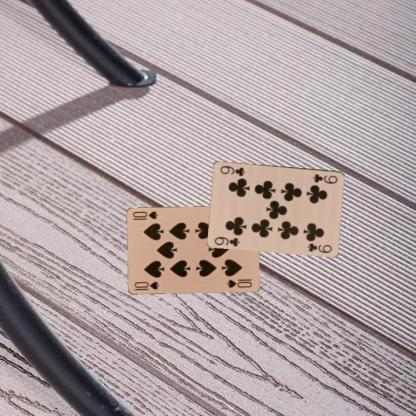10s: (132, 279, 160, 292)
9c: (310, 171, 339, 185), (212, 234, 241, 247)
